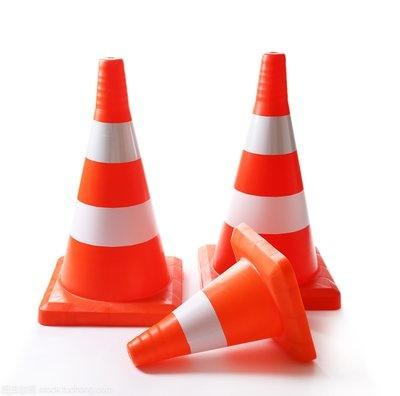cone_barrel: (47, 57, 178, 310), (201, 52, 328, 289), (128, 230, 314, 365)
